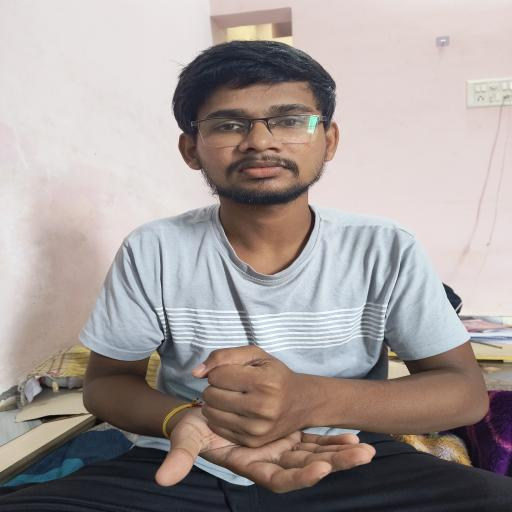Next: (152, 338, 390, 504)
